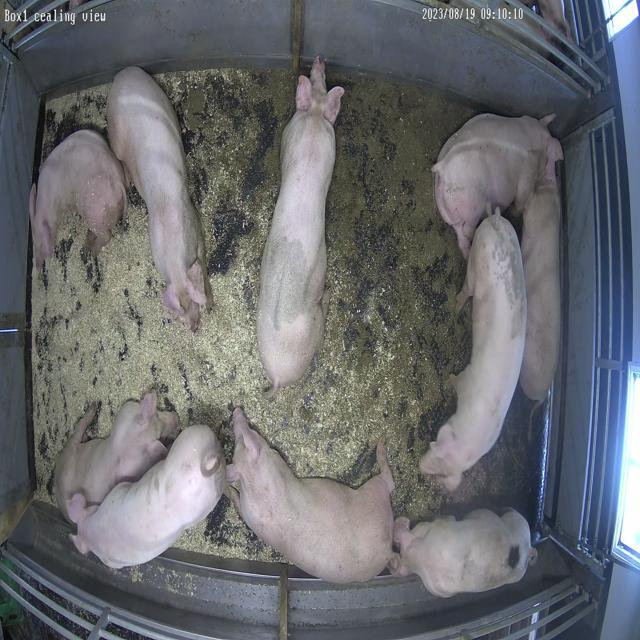Dirt: (333, 76, 471, 440), (156, 68, 295, 230), (475, 387, 545, 528)
Pig: (433, 114, 564, 400), (421, 210, 528, 492), (226, 409, 395, 584), (257, 58, 345, 388), (108, 66, 209, 330), (72, 426, 225, 570), (54, 393, 177, 524), (30, 130, 125, 268), (391, 510, 536, 598), (521, 179, 562, 402)
